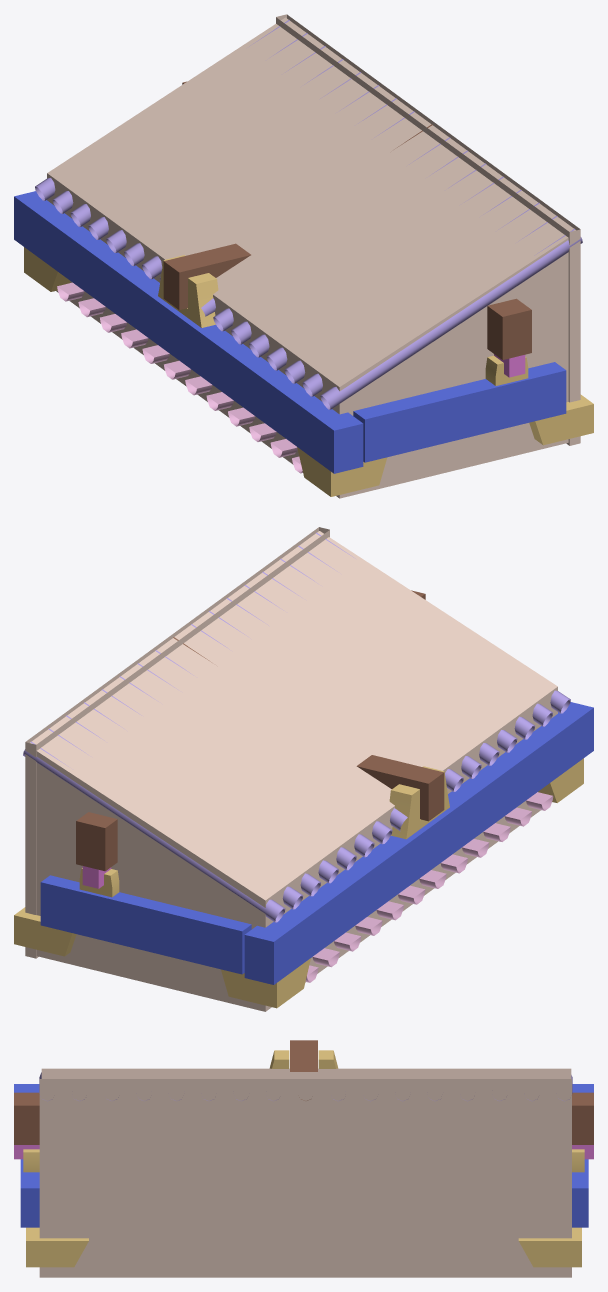
File: Outside_Roof.fbx
3 views of the same model, one above another, from view 1: azimuth 30°, elevation 25°; view 2: azimuth 150°, elevation 25°; view 3: azimuth 270°, elevation 25° (orthographic). The views are drawn at different scales.
Visible parts, largest first — view 1: RoofPart_Outside; view 2: RoofPart_Outside; view 3: RoofPart_Outside.
Part boxes in pixels (<box>): RoofPart_Outside: <box>14,14,593,498</box>; RoofPart_Outside: <box>14,527,593,1011</box>; RoofPart_Outside: <box>14,1040,593,1277</box>.
Bounding box in the file's own units: 217 × 165 × 448.
